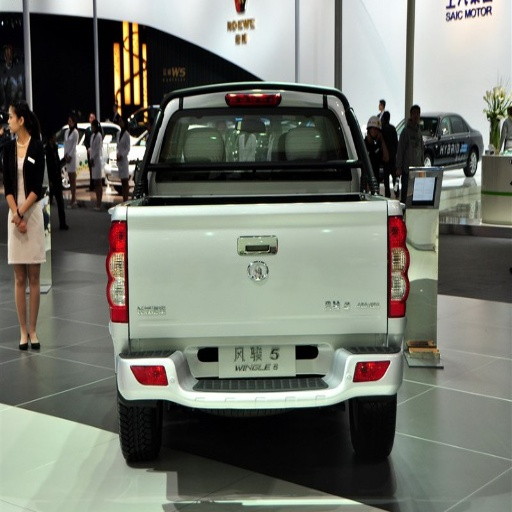back_bumper: (108, 318, 403, 414)
trunk: (131, 182, 385, 348)
